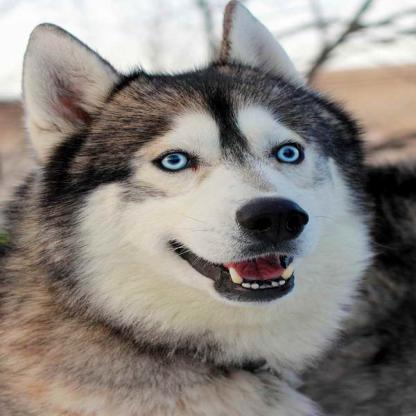dog: (0, 2, 373, 416)
